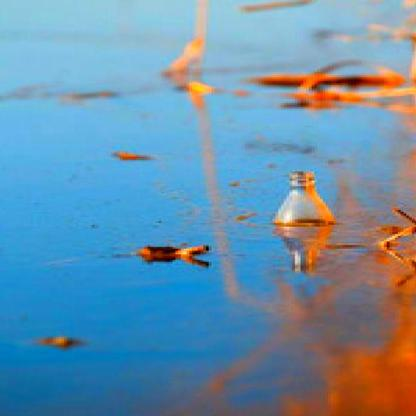plastic bottle: (271, 169, 338, 229)
